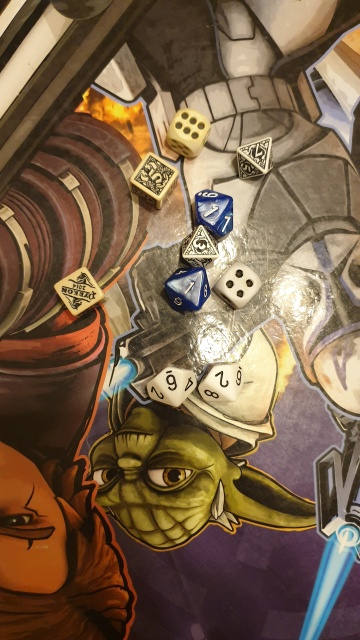d10-1: (161, 265, 210, 312), (194, 183, 236, 237)
d10-2: (198, 360, 250, 407)
d10-6: (146, 363, 196, 410)
d6-4: (213, 260, 259, 310)
d6-6: (167, 102, 209, 158)
d6p-1: (50, 265, 110, 321)
d6p-5: (126, 151, 179, 206)
d8p-3: (179, 227, 221, 263)
d8p-7: (236, 135, 275, 180)
